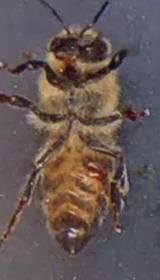varroa_mite: (76, 150, 109, 187)
